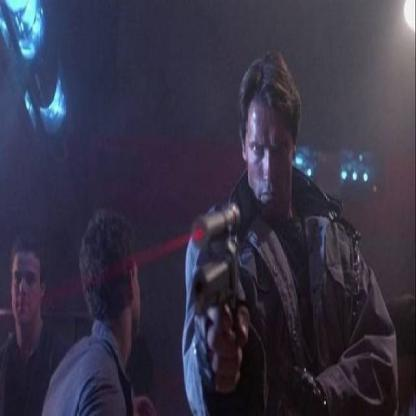Pistol: (174, 192, 269, 385)
